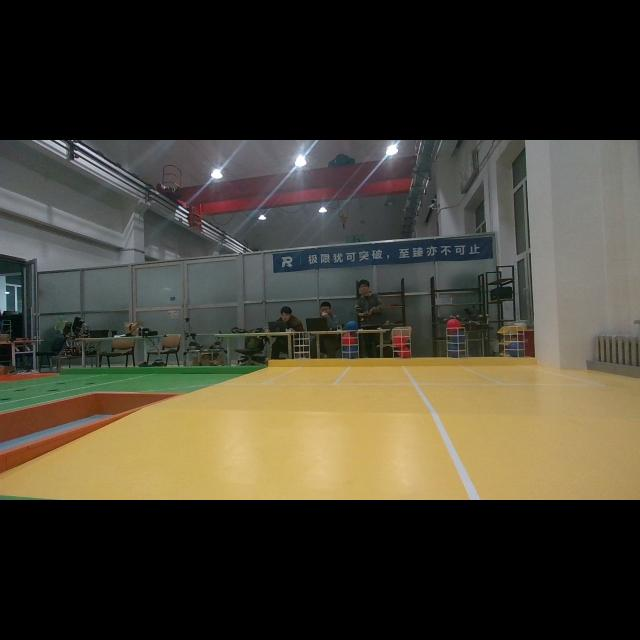S: (288, 331, 314, 374), (444, 328, 470, 366), (500, 324, 524, 358), (393, 323, 412, 365), (338, 330, 364, 360)
